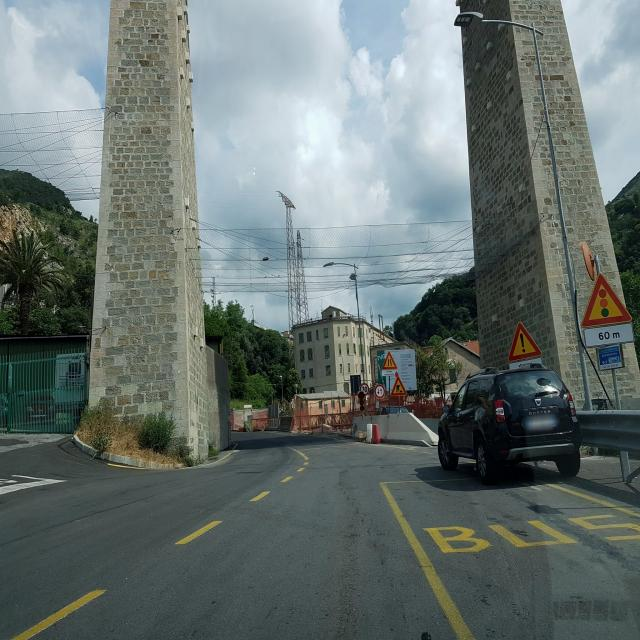car: (436, 362, 582, 484)
